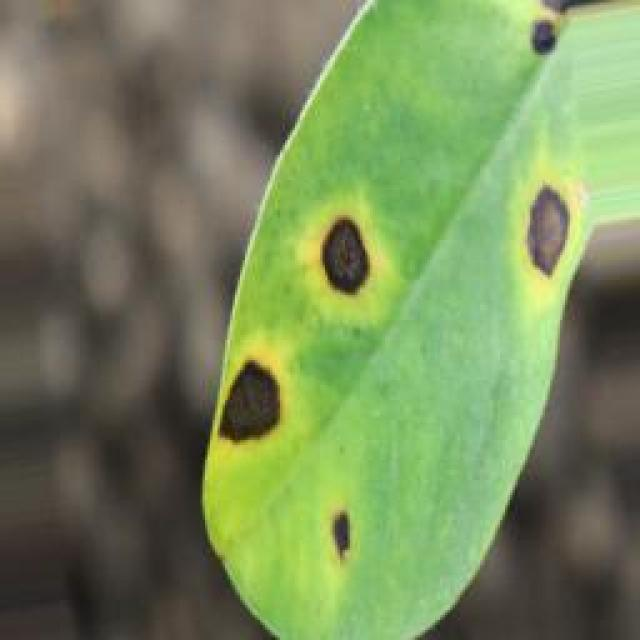Yellowish: (490, 153, 586, 290), (290, 184, 396, 308), (197, 343, 300, 440), (299, 482, 375, 570), (510, 0, 568, 68)
